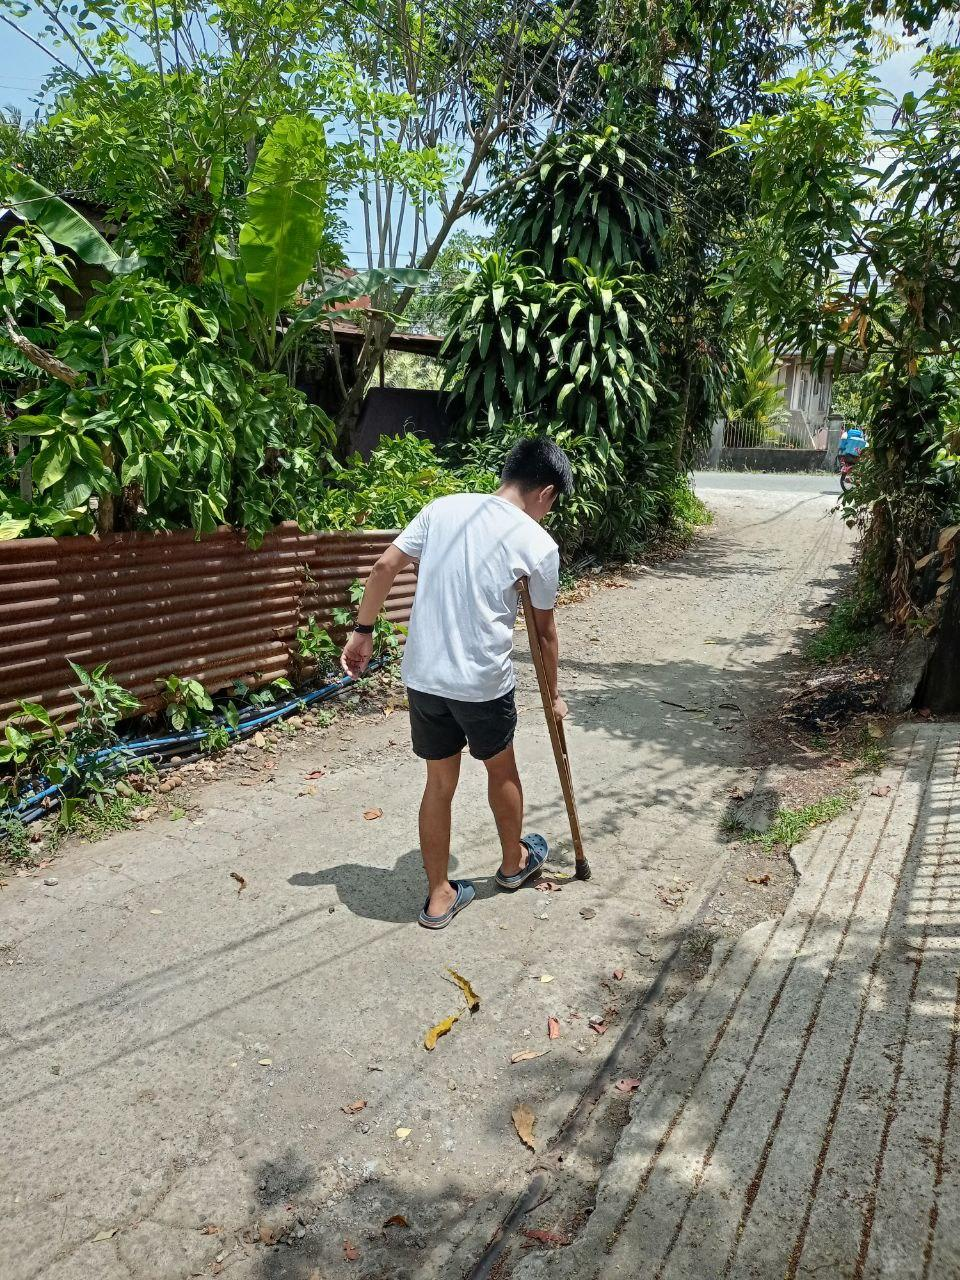crutches: (340, 437, 592, 929)
